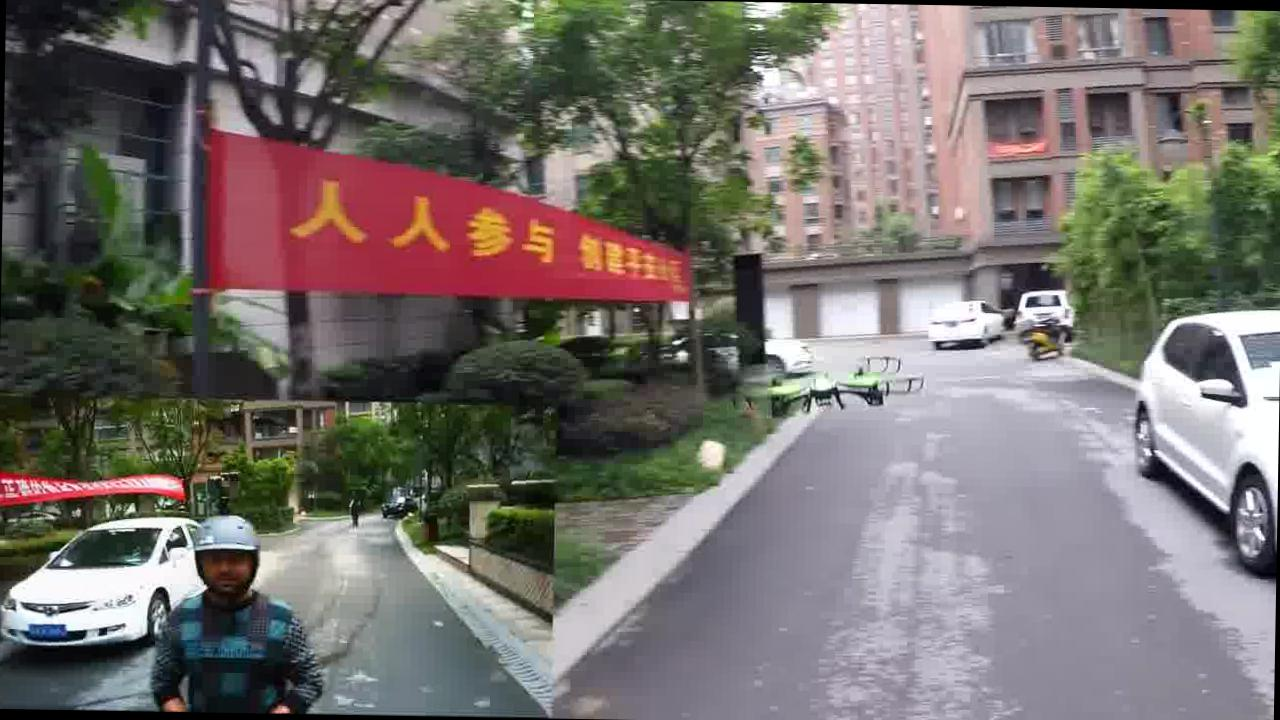drone: (748, 332, 936, 418)
